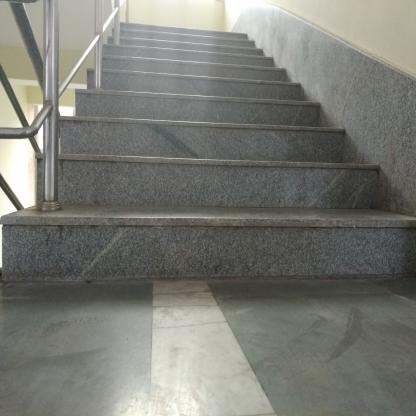stairs: (107, 64, 272, 284)
